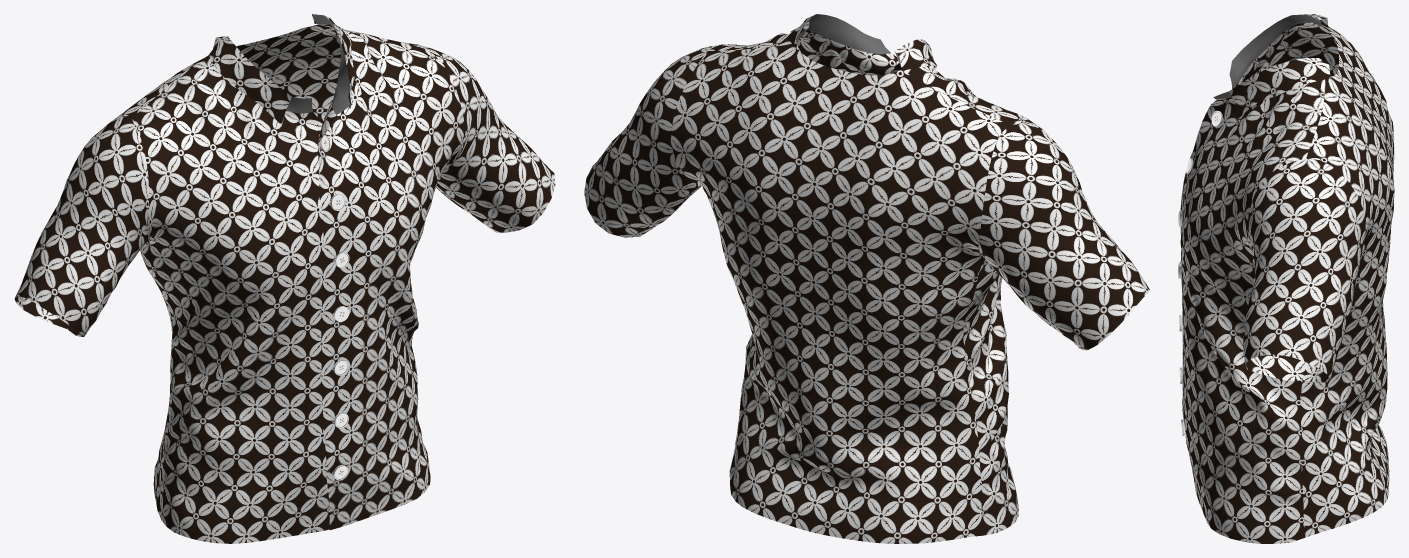
File: Baju_Pendek.fbx
3 renders of one model, left to right at view 1: azimuth 30°, elevation 25°; view 2: azimuth 150°, elevation 25°; view 3: azimuth 270°, elevation 25°, orthographic. The views are drawn at different scales.
Parts seen in each view (by area): view 1: Baju_LenganPendek; view 2: Baju_LenganPendek; view 3: Baju_LenganPendek.
Boxes of the visible parts, bbox=[...] form: Baju_LenganPendek: bbox=[14, 14, 555, 543]; Baju_LenganPendek: bbox=[584, 14, 1149, 543]; Baju_LenganPendek: bbox=[1178, 14, 1394, 543].
Size of the model in its own units: 736 by 619 by 268.
4 materials, 2 textured.
